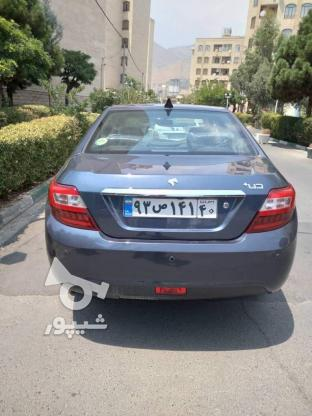car: (123, 197, 217, 216)
